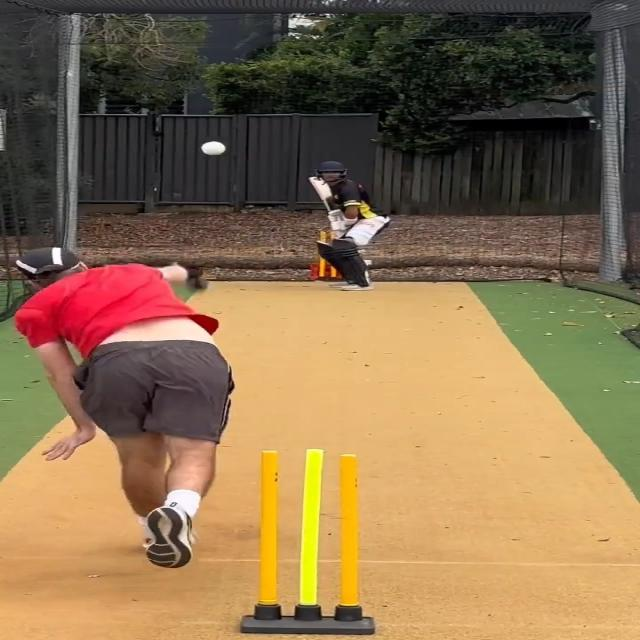ball: (197, 136, 231, 159)
stump: (234, 449, 377, 637)
